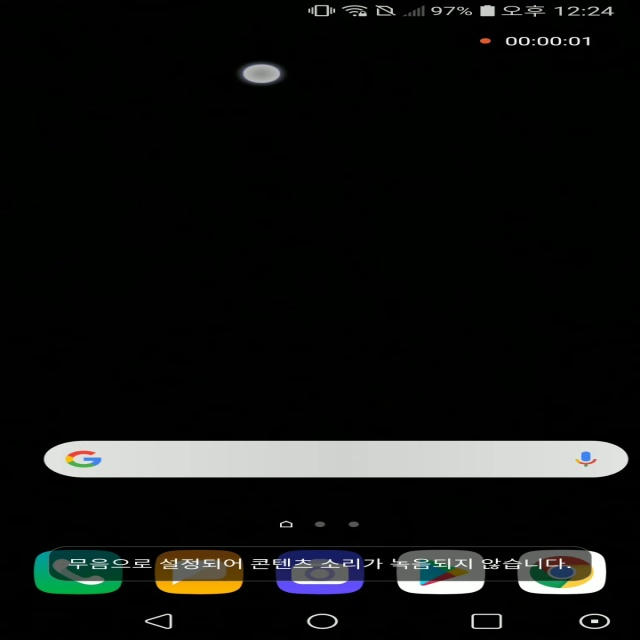Cursor: (240, 64, 284, 86)
